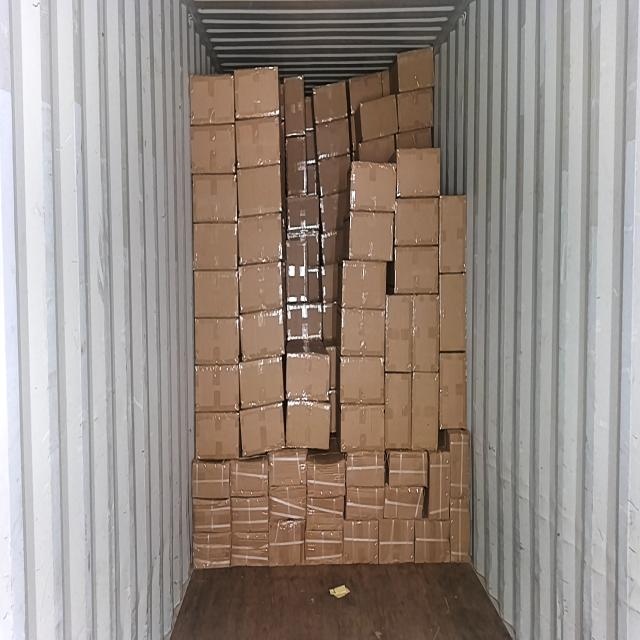carton: (240, 404, 284, 458), (192, 173, 238, 224), (352, 160, 396, 213), (194, 316, 240, 366), (395, 196, 439, 247), (192, 124, 236, 174), (240, 357, 284, 407), (394, 245, 440, 292), (189, 75, 235, 122), (194, 270, 239, 318), (193, 222, 237, 271), (240, 313, 284, 362), (397, 148, 440, 198), (439, 275, 466, 354), (384, 372, 412, 448), (438, 352, 466, 428), (413, 372, 440, 450), (386, 293, 413, 371), (351, 212, 393, 262), (237, 167, 281, 214), (195, 412, 238, 460), (287, 353, 330, 401), (342, 308, 385, 356), (340, 357, 385, 402), (234, 71, 279, 116), (286, 403, 330, 449), (341, 405, 385, 451), (344, 262, 386, 310), (414, 295, 440, 372), (195, 364, 239, 409), (239, 263, 282, 309), (440, 196, 466, 272), (239, 216, 281, 262), (236, 121, 280, 163), (268, 522, 305, 565), (399, 88, 435, 130), (398, 48, 434, 90), (388, 450, 429, 486), (360, 95, 396, 136), (380, 519, 414, 562), (194, 532, 232, 570), (308, 456, 346, 494), (415, 519, 450, 560), (192, 461, 230, 498), (230, 460, 269, 496), (287, 303, 322, 343), (315, 80, 347, 123), (346, 452, 385, 487), (231, 531, 268, 567), (345, 522, 380, 560), (430, 451, 450, 517), (318, 119, 350, 160), (450, 435, 470, 500), (192, 499, 230, 533), (385, 486, 424, 519), (320, 154, 350, 196), (232, 495, 269, 529), (306, 497, 344, 530), (270, 487, 307, 520), (286, 242, 306, 303), (450, 499, 469, 563), (268, 454, 307, 485), (346, 488, 386, 518), (286, 136, 306, 196), (306, 532, 343, 564), (285, 77, 304, 136), (289, 196, 319, 231)
